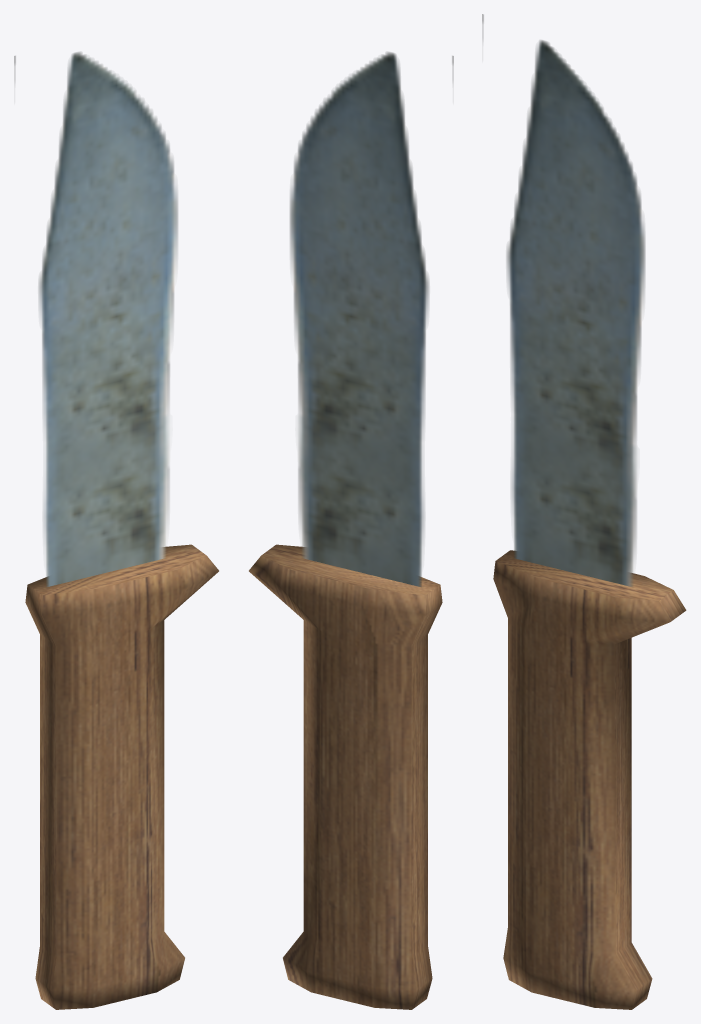
The model's file is Knife.glb.
3 views of the same model, side by side, from view 1: azimuth 30°, elevation 25°; view 2: azimuth 150°, elevation 25°; view 3: azimuth 330°, elevation 25° (orthographic).
Visible parts, largest first — view 1: Knife.001; view 2: Knife.001; view 3: Knife.001.
Part boxes in pixels (x1=…): Knife.001: x1=14, y1=52, x2=218, y2=1009; Knife.001: x1=249, y1=52, x2=453, y2=1009; Knife.001: x1=482, y1=14, x2=686, y2=1009.
Bounding box in the file's own units: 0.0953 × 0.4423 × 0.0266.
Materials: 1 (1 with a texture image).
